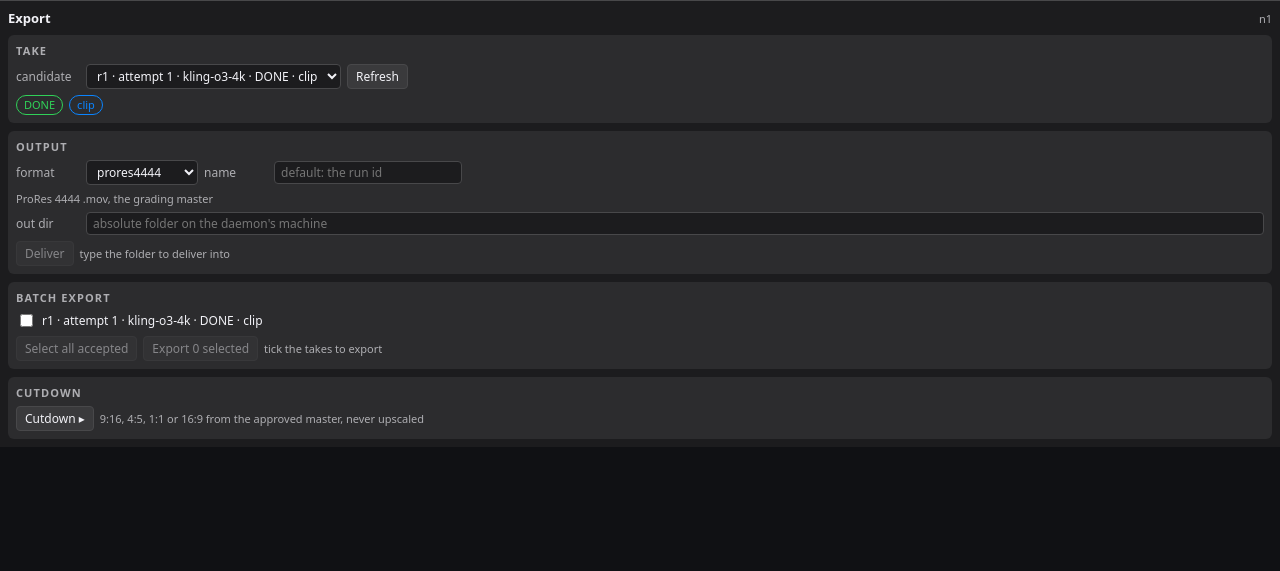
Test: ExportEditor: clip delivery › a clip take shows the four delivery formats, and hevc posts /runs/r1/deliver
Expected: the dropdown with test id "export-candidate" shows "r1 · attempt 1 · kling-o3-4k · DONE · clip", [86,64,341,89]
Expected: the text with test id "export-media" reads "clip", [77,97,95,112]
Select "hevc" in the dropdown with test id "export-format" at [142, 172], box [86,160,198,185]
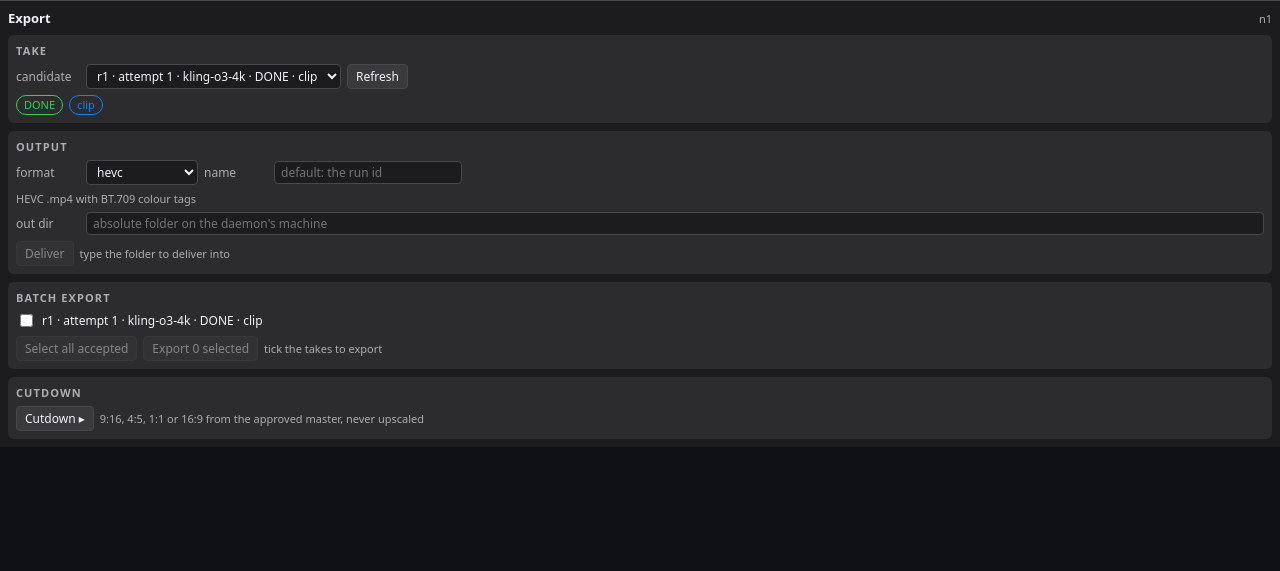
Type "/Users/artist/out" into the field with test id "export-outdir" at [675, 224], box [86,212,1264,235]
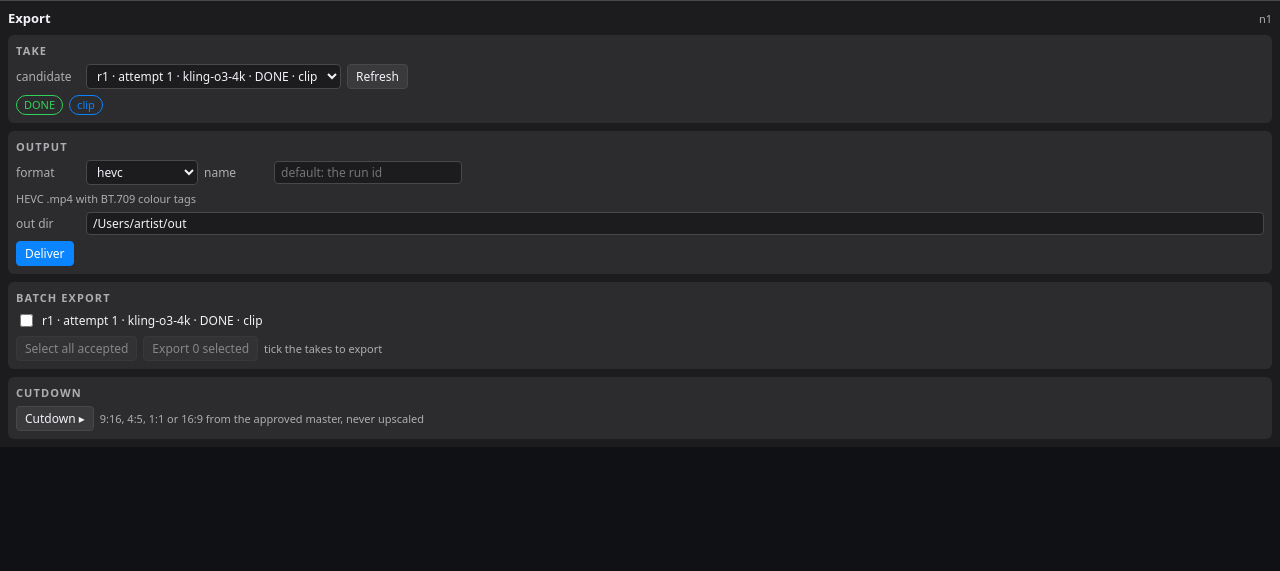
Type "walk" into the field with test id "export-name" at [368, 172], box [274,161,462,184]
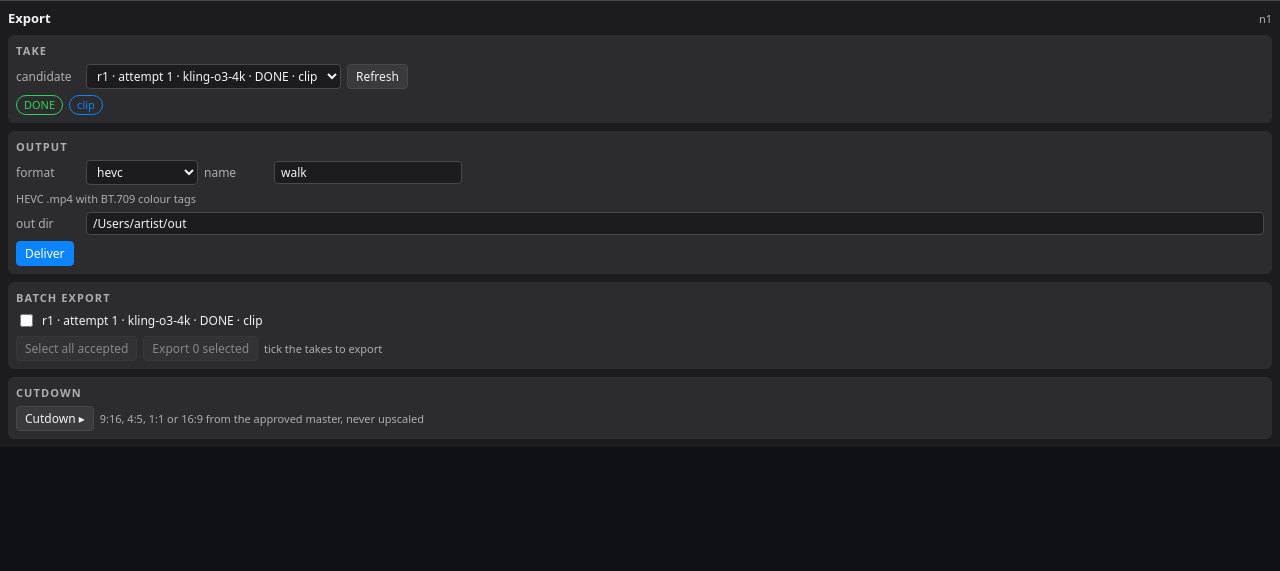
Click the button with test id "export-go" at [45, 254], box [16,241,74,266]
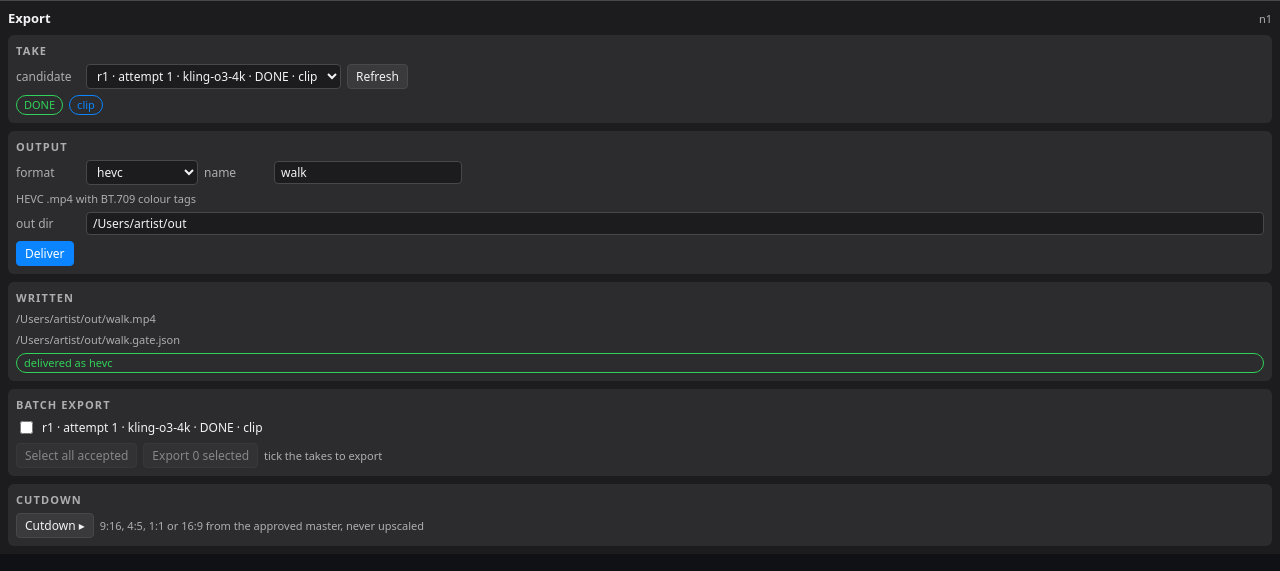
Expected: the text with test id "export-path" reads "/Users/artist/out/walk.mp4", [16,311,156,326]
Expected: the text with test id "export-sidecar" reads "/Users/artist/out/walk.gate.json", [16,332,180,347]
